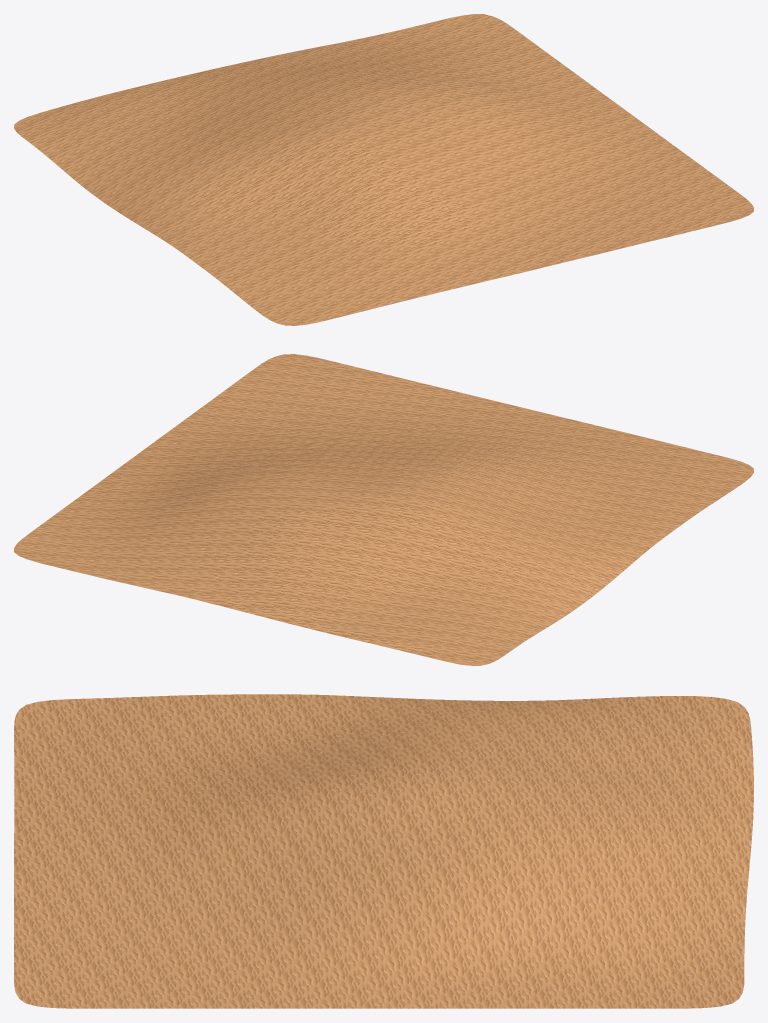
File: island.glb
The picture shows the model from 3 angles, top to bottom: view 1: azimuth 30°, elevation 25°; view 2: azimuth 150°, elevation 25°; view 3: azimuth 270°, elevation 25°; orthographic projection. The views are drawn at different scales.
Visible parts, largest first — view 1: Plane; view 2: Plane; view 3: Plane.
Part boxes in pixels (x1=…): Plane: x1=14, y1=14, x2=753, y2=325; Plane: x1=14, y1=354, x2=753, y2=665; Plane: x1=14, y1=694, x2=753, y2=1008.
Bounding box in the file's own units: 64.17 × 4.62 × 64.84.
1 material, 1 textured.
